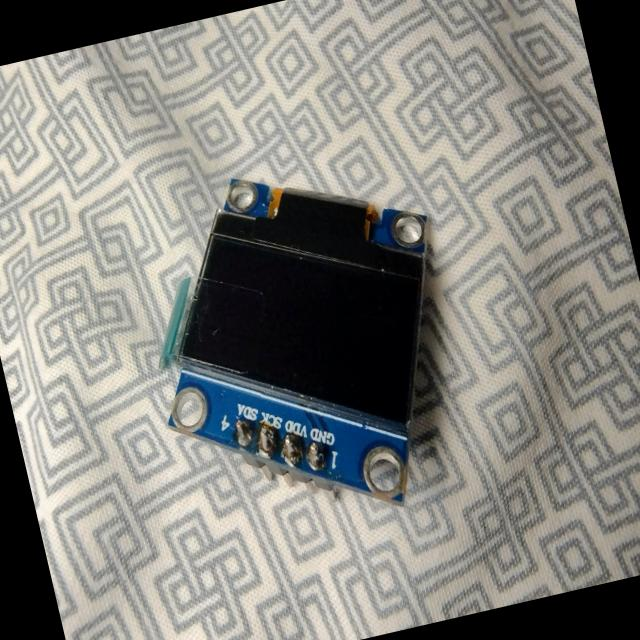oled: (106, 121, 508, 569)
